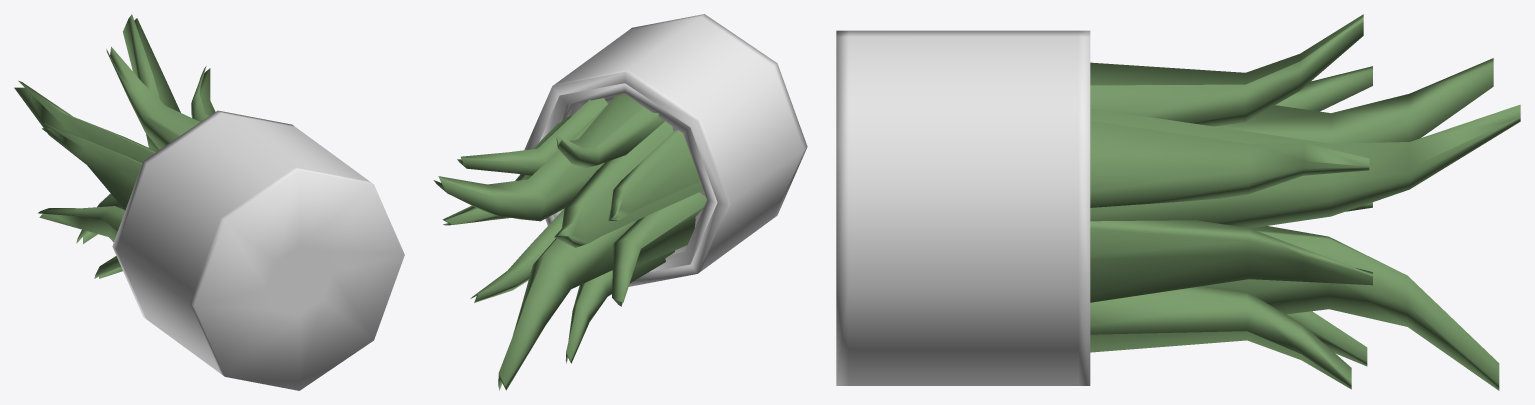
The model's file is pot.glb.
The picture shows the model from 3 angles, left to right: view 1: azimuth 30°, elevation 25°; view 2: azimuth 150°, elevation 25°; view 3: azimuth 270°, elevation 25°; orthographic projection. The views are drawn at different scales.
Visible parts, largest first — view 1: pot; view 2: pot; view 3: pot.
Boxes of the visible parts, x1,y1,x2,y2 form: pot: (14,14,404,390); pot: (433,14,807,390); pot: (836,14,1520,390).
Size of the model in its own units: 0.2559 by 0.2709 by 0.463.
